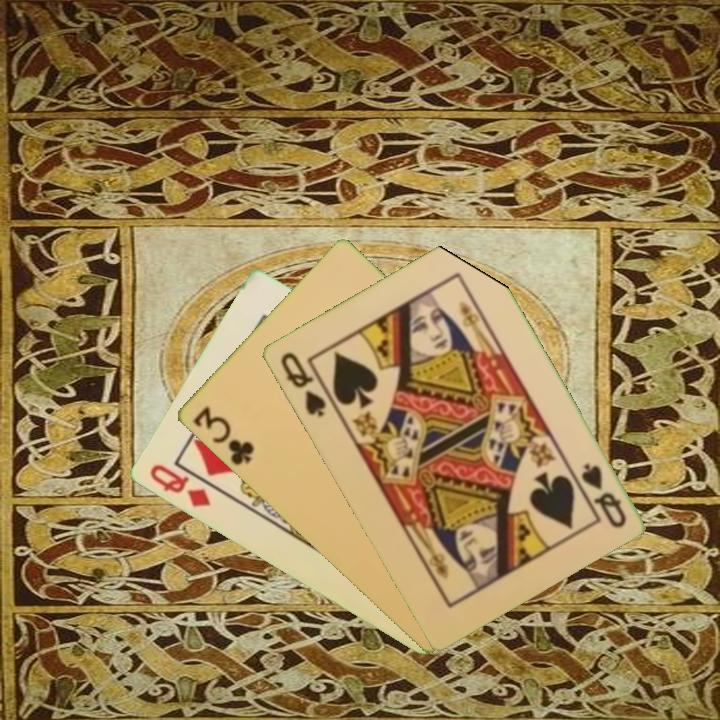3c: (189, 402, 257, 469)
Qd: (145, 460, 213, 511)
Qs: (276, 348, 329, 420), (577, 459, 629, 531)
